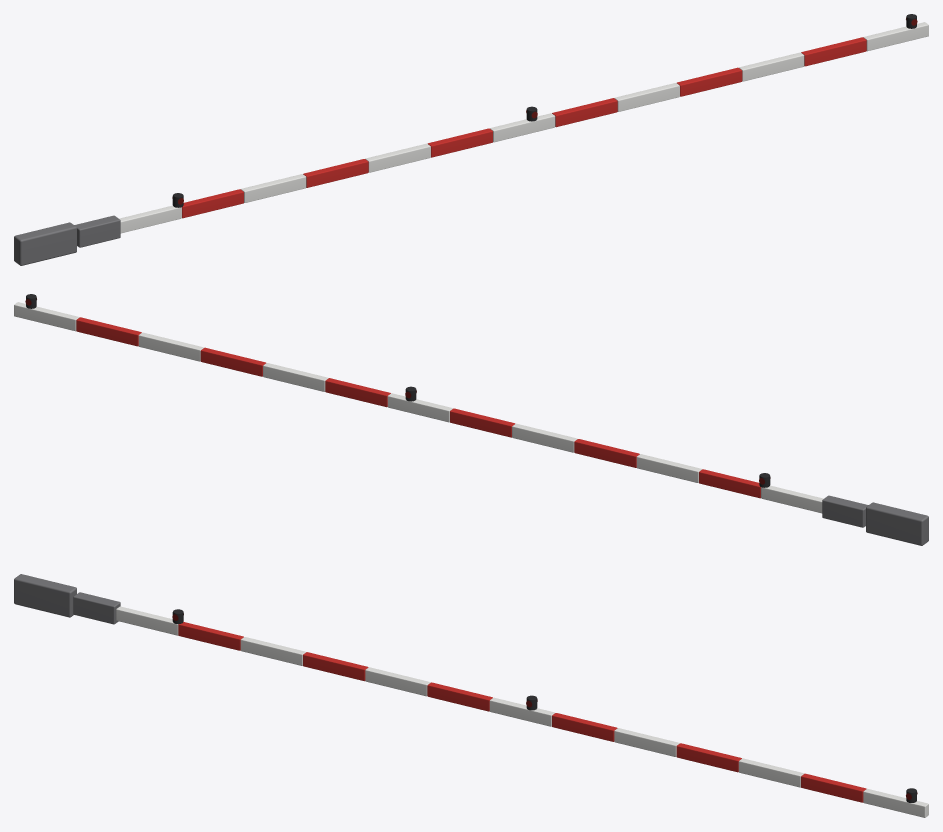
File: lx_boom_8.glb
3 renders of one model, top to bottom at view 1: azimuth 30°, elevation 25°; view 2: azimuth 150°, elevation 25°; view 3: azimuth 330°, elevation 25°, orthographic.
Visible parts, largest first — view 1: SM_lx_boom_8; view 2: SM_lx_boom_8; view 3: SM_lx_boom_8.
Boxes of the visible parts, bbox=[...] form: SM_lx_boom_8: bbox=[14, 14, 928, 265]; SM_lx_boom_8: bbox=[14, 294, 928, 545]; SM_lx_boom_8: bbox=[14, 574, 928, 817].
Size of the model in its own units: 8.75 by 0.275 by 0.12.
